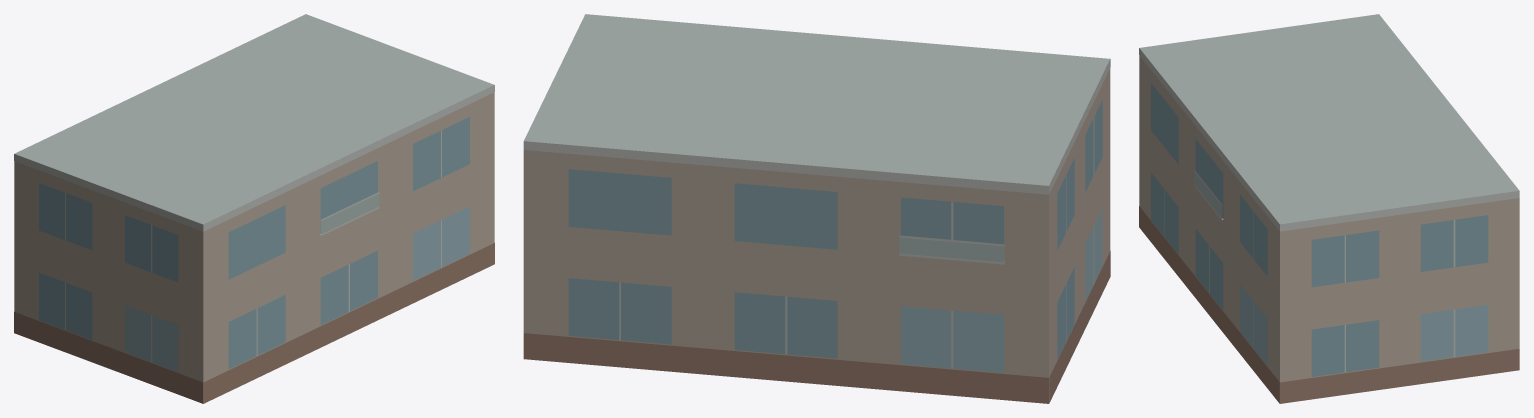
File: survey-upis-32699616.glb
The picture shows the model from 3 angles, left to right: view 1: azimuth 30°, elevation 25°; view 2: azimuth 150°, elevation 25°; view 3: azimuth 270°, elevation 25°; orthographic projection. The views are drawn at different scales.
Parts seen in each view (by area): view 1: survey-upis-32699616.tmp; view 2: survey-upis-32699616.tmp; view 3: survey-upis-32699616.tmp.
Part boxes in pixels (x1=…): survey-upis-32699616.tmp: x1=14, y1=14, x2=494, y2=403; survey-upis-32699616.tmp: x1=523, y1=14, x2=1110, y2=403; survey-upis-32699616.tmp: x1=1139, y1=14, x2=1519, y2=403.
Bounding box in the file's own units: 15.36 × 6.1 × 11.73.
